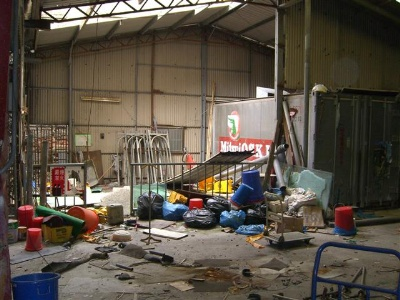box: (44, 226, 73, 243)
bucket: (11, 271, 62, 300), (68, 206, 99, 230), (334, 205, 356, 236), (231, 183, 254, 207), (240, 169, 261, 194), (25, 227, 43, 253), (105, 203, 123, 226), (18, 205, 32, 226)
plastic_bag: (137, 191, 163, 219), (184, 208, 217, 229), (218, 209, 246, 229), (162, 202, 186, 222), (237, 223, 265, 234)
